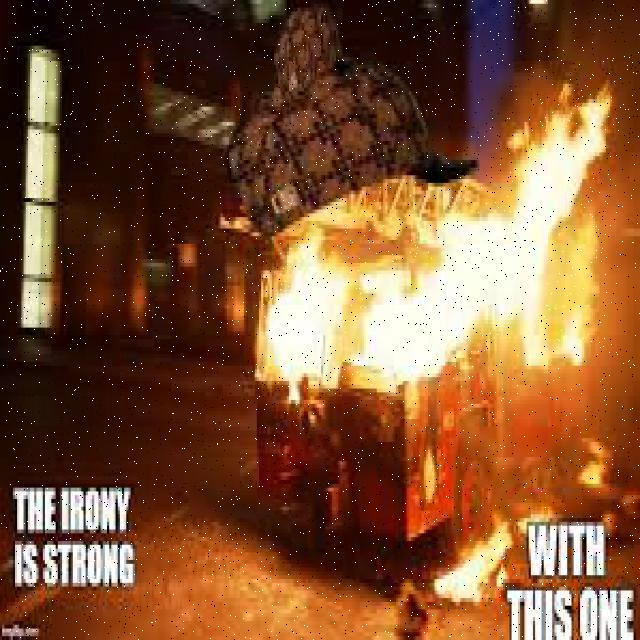fire: (266, 203, 570, 373), (438, 527, 510, 599)
